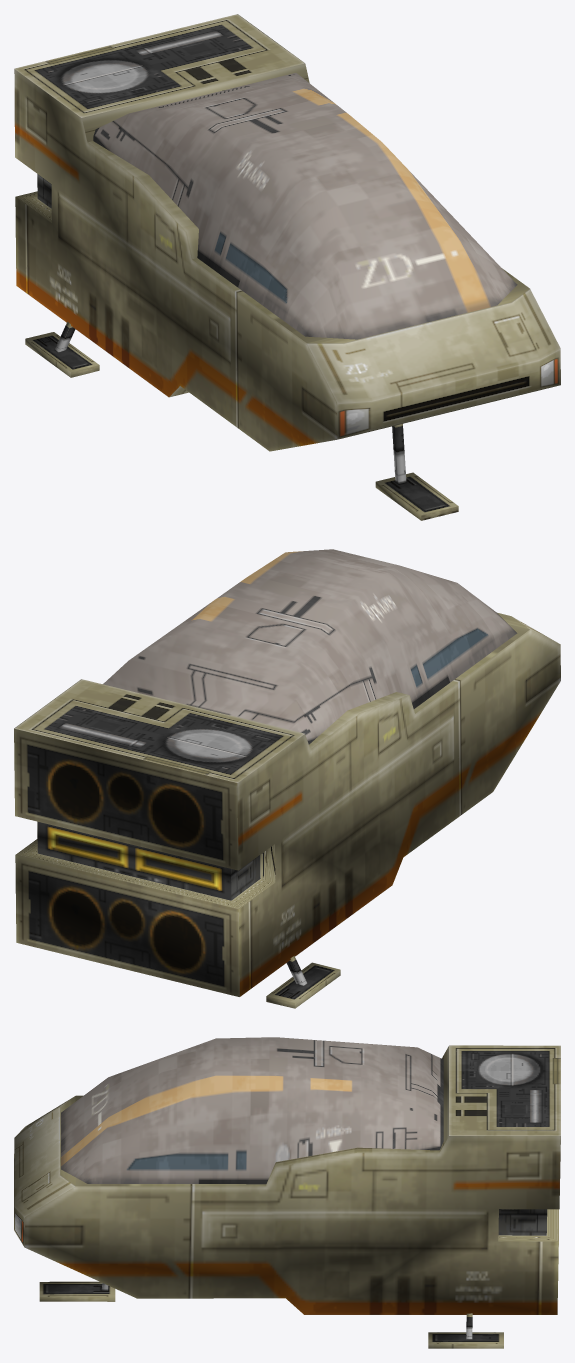
The model's file is Pod.obj.
The picture shows the model from 3 angles, top to bottom: view 1: azimuth 30°, elevation 25°; view 2: azimuth 150°, elevation 25°; view 3: azimuth 270°, elevation 25°; orthographic projection. The views are drawn at different scales.
Parts seen in each view (by area): view 1: Pod; view 2: Pod; view 3: Pod.
Part boxes in pixels (box(x1,y1,x2,y2)): Pod: box(14, 14, 560, 520); Pod: box(14, 549, 560, 1008); Pod: box(14, 1037, 560, 1348).
Size of the model in its own units: 8.4 by 8.47 by 17.77.
Materials: 2 (2 with a texture image).
